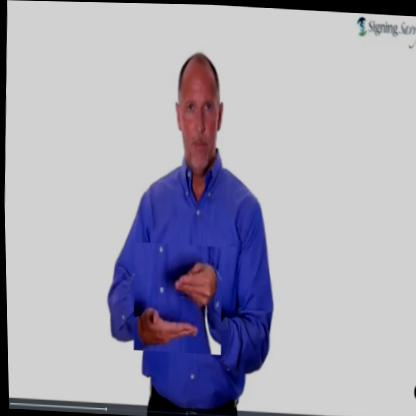Expensive: (131, 242, 223, 354)
